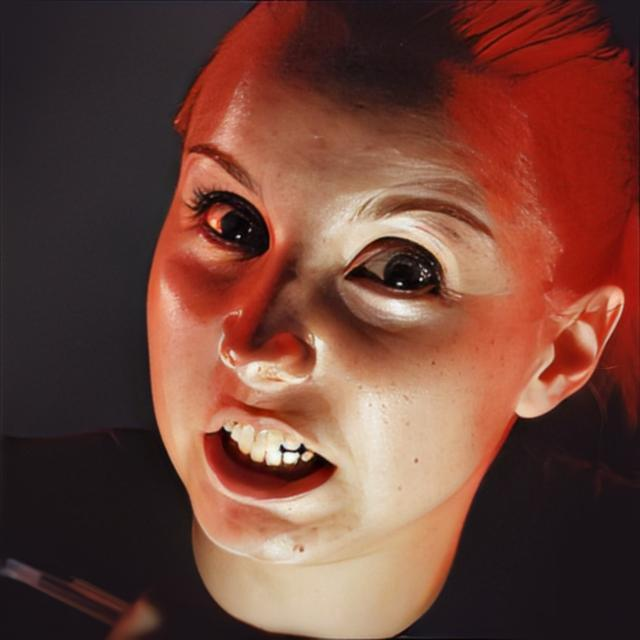anger: (148, 30, 548, 587)
